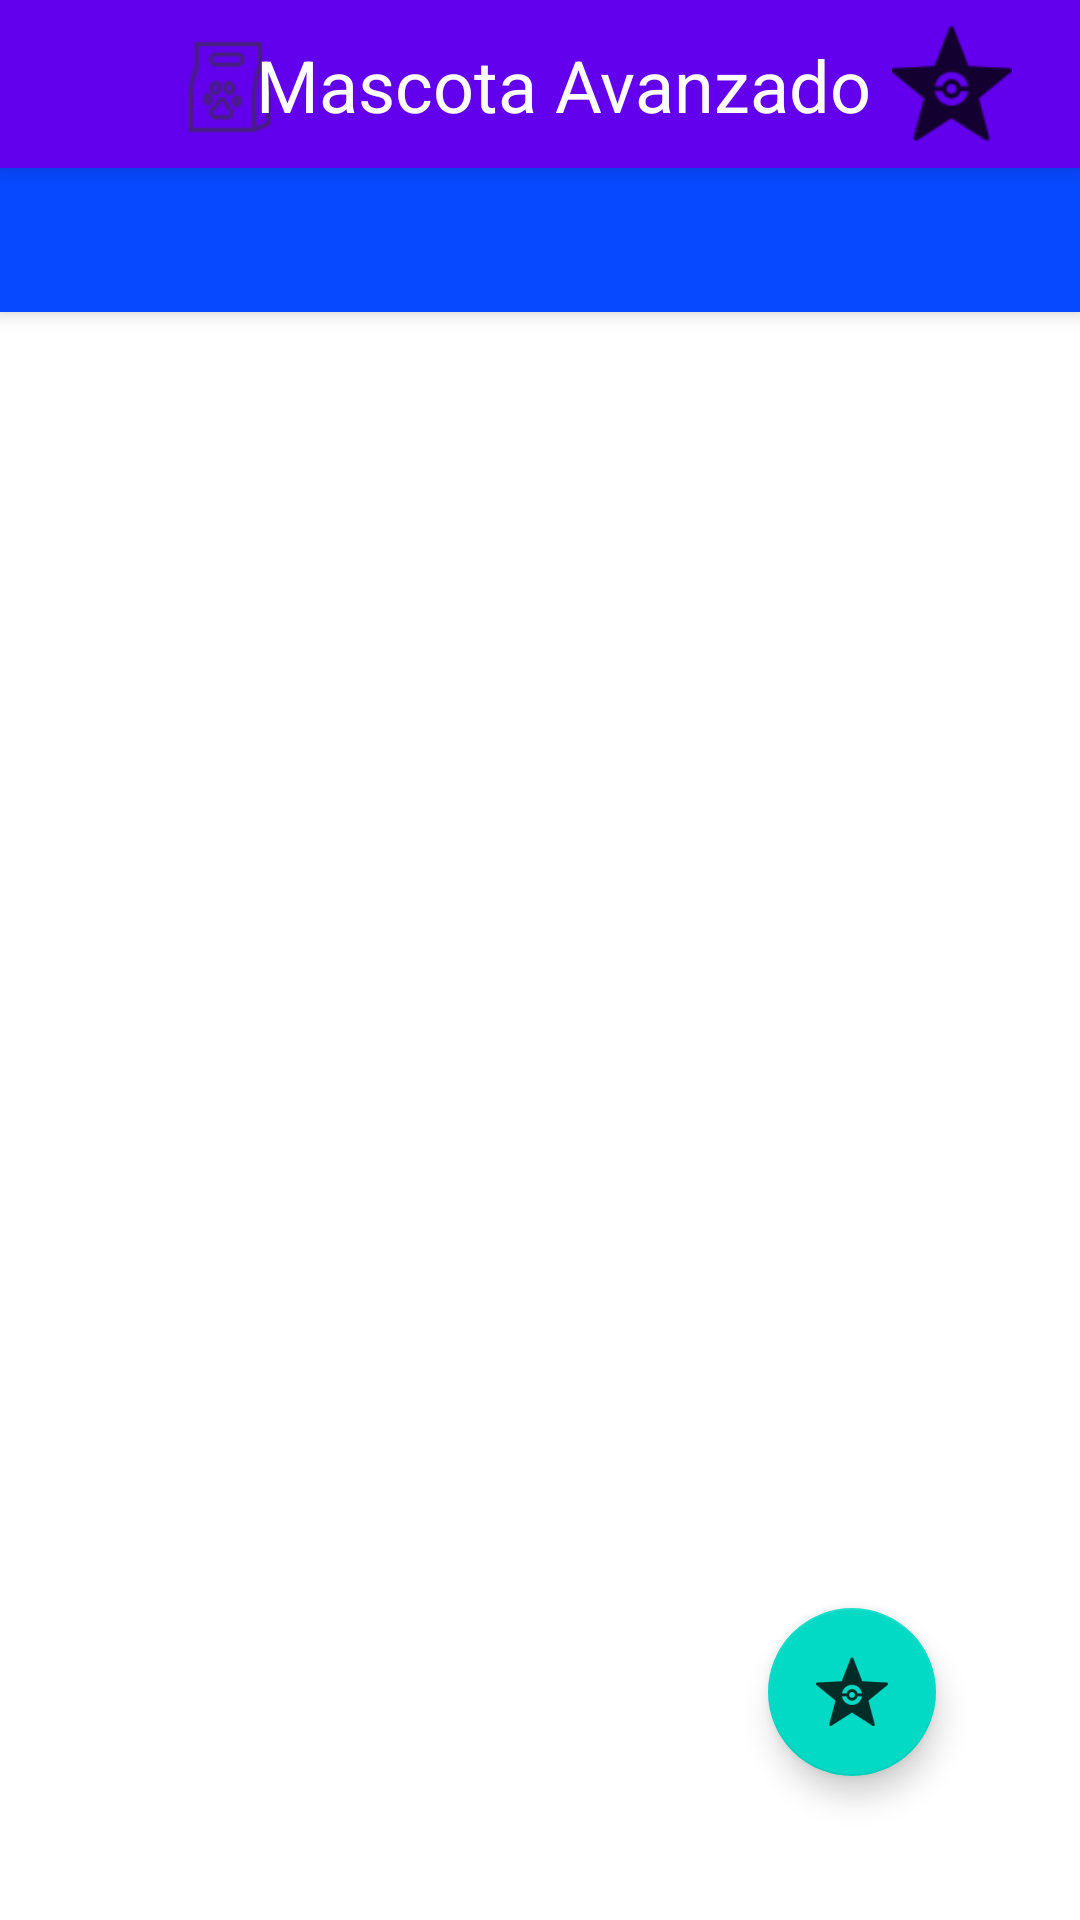

Icon click points for this 1080x1920 phone screenshot, format [x,y]:
huella name: [239,87]
star name: [952,83], [852,1692]
